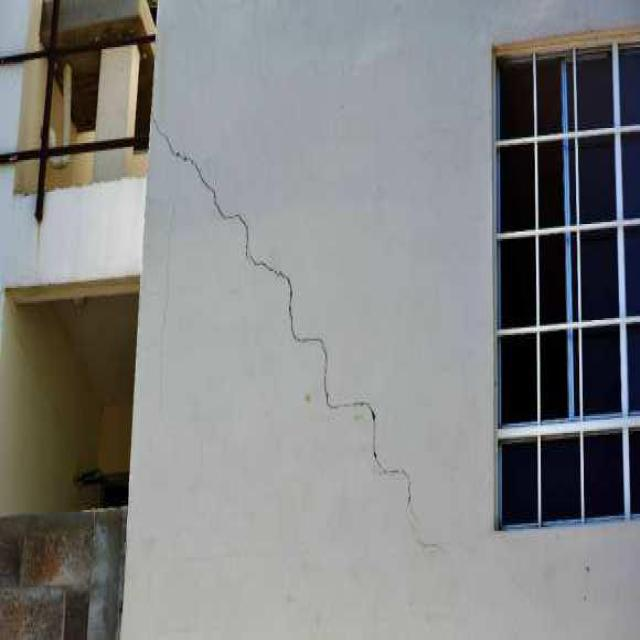crack: (149, 105, 441, 554)
